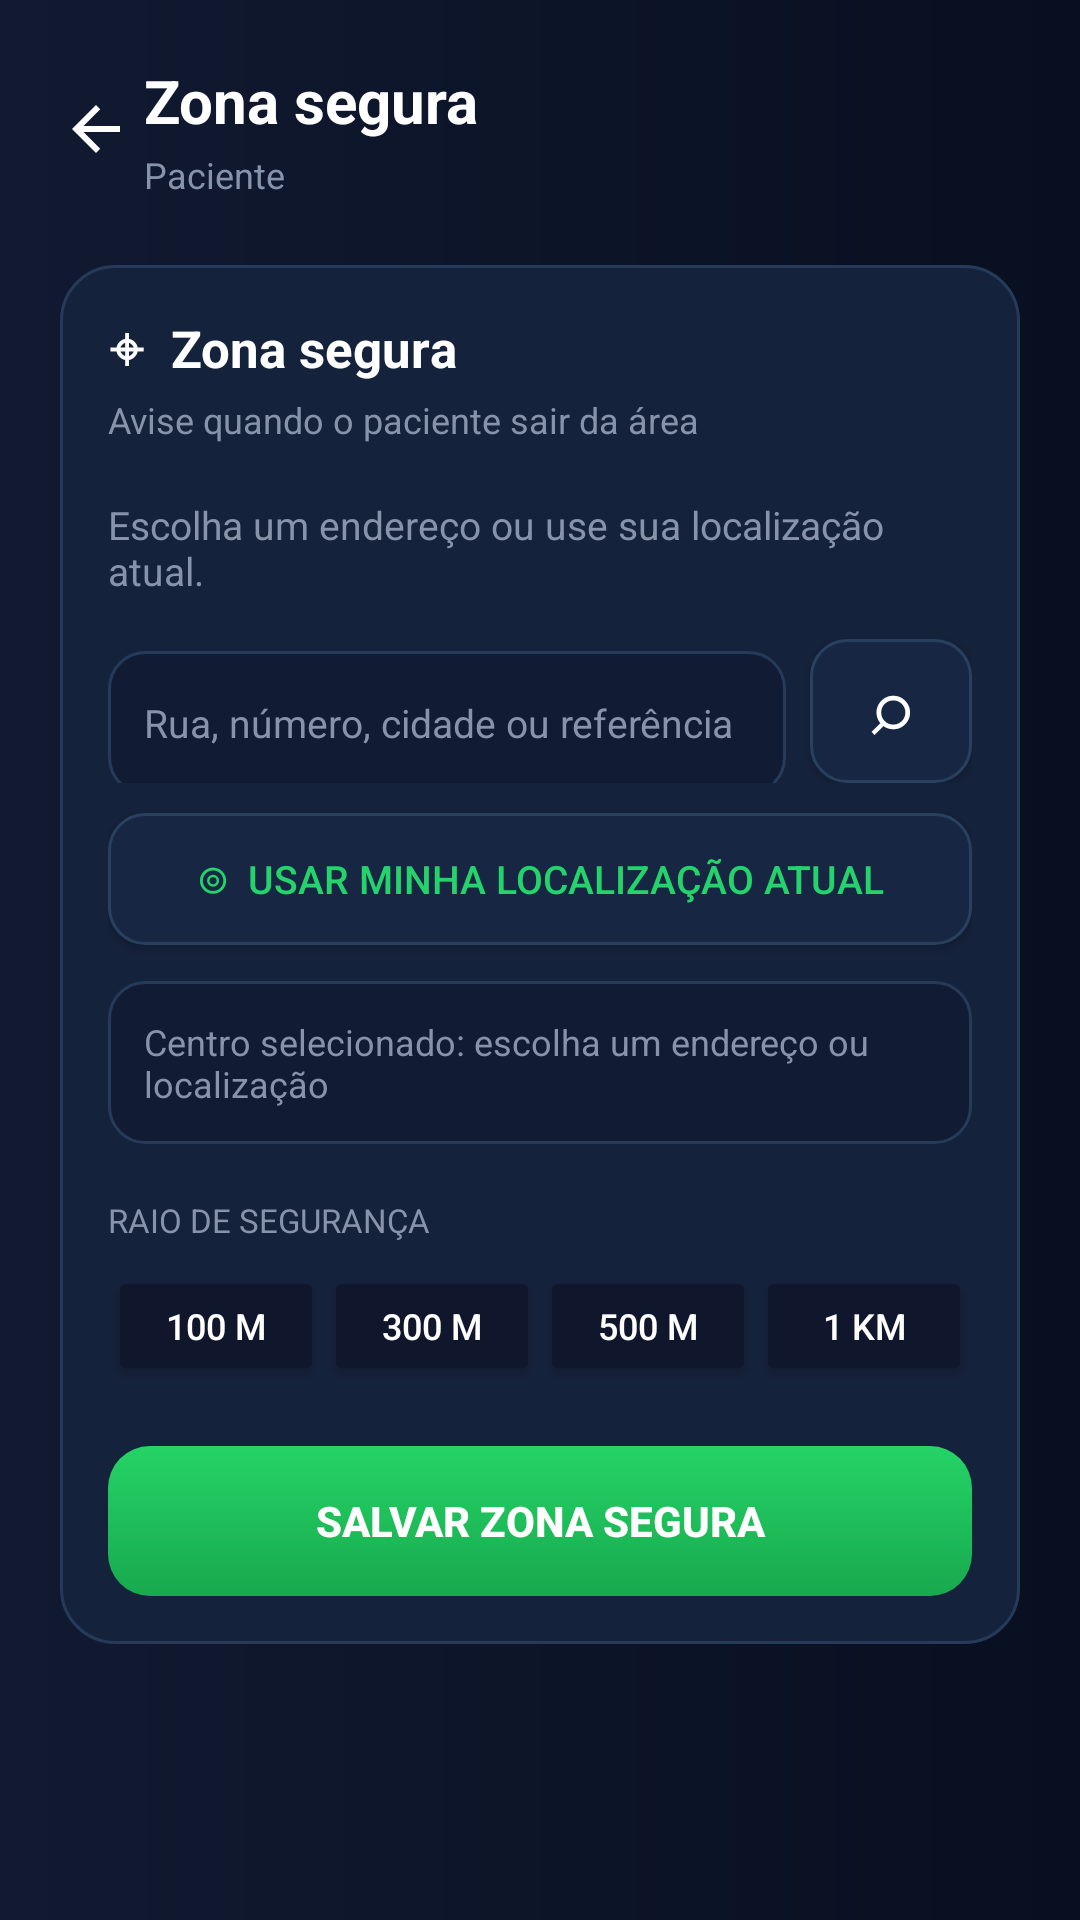

Icon bounding boxes for this 1080w x 1920h phone screenshot, format rect(x1, y1, x2, y2):
login back: rect(72, 105, 120, 153)
